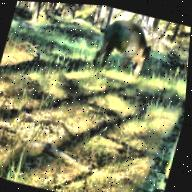boar: (85, 9, 160, 92)
